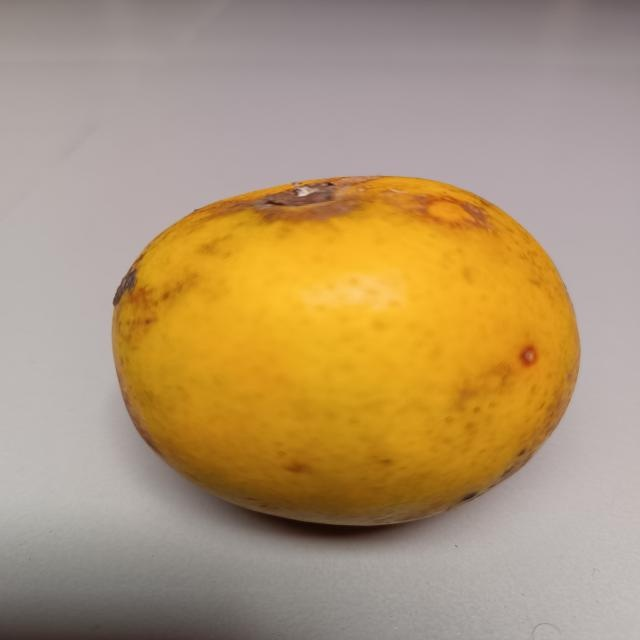agrume: (105, 163, 587, 538)
